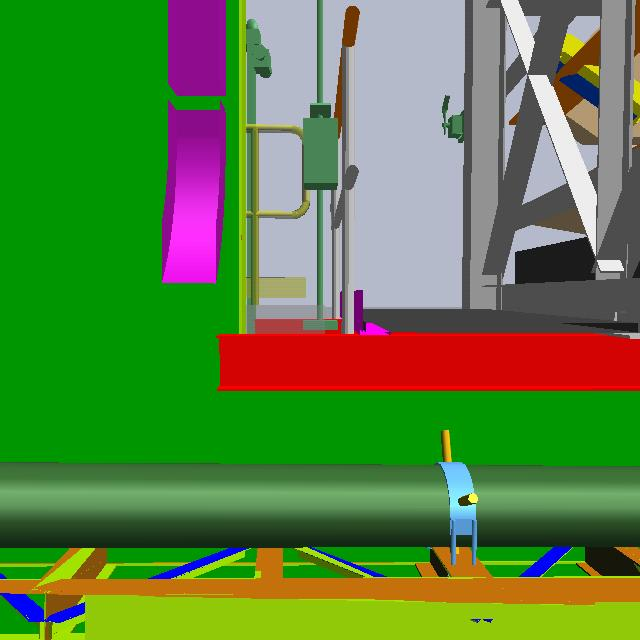Poste: (312, 1, 327, 329)
